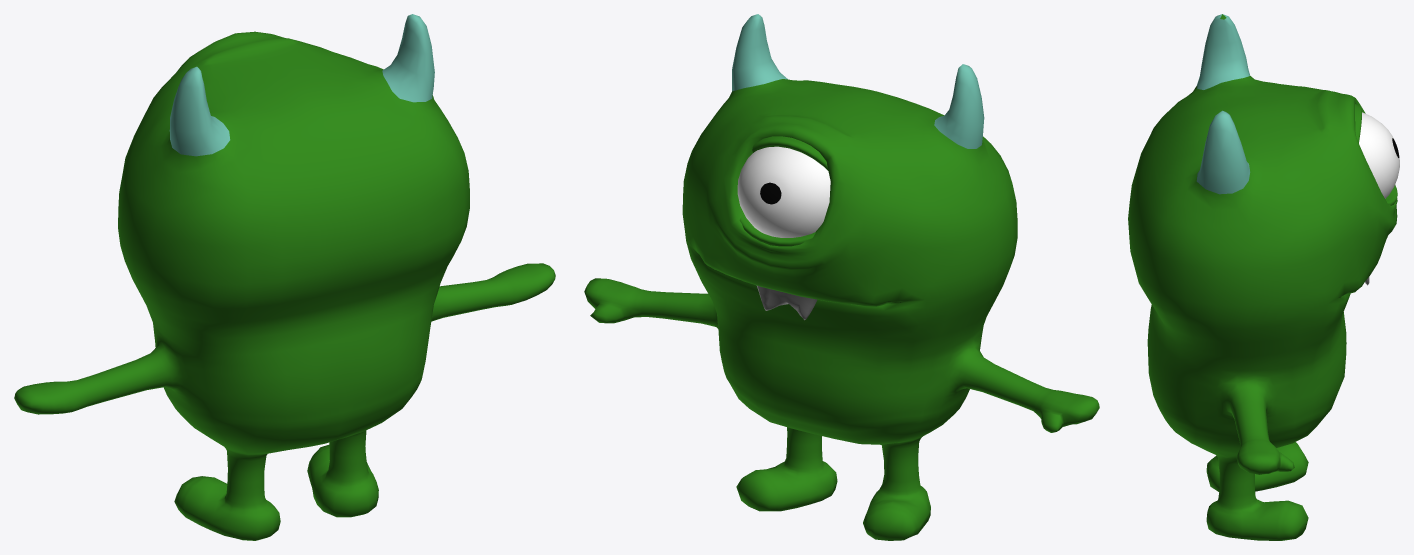
The model's file is mikeGuasouski.FBX.
3 views of the same model, side by side, from view 1: azimuth 30°, elevation 25°; view 2: azimuth 150°, elevation 25°; view 3: azimuth 270°, elevation 25° (orthographic). The views are drawn at different scales.
Visible parts, largest first — view 1: skin, horn; view 2: skin, eyeball, horn, tooth, eyelidT, eyelidB; view 3: skin, horn, eyeball.
Part boxes in pixels (left/top/right/bottom): skin: left=14, top=31, right=555, bottom=540; horn: left=169, top=14, right=434, bottom=156; skin: left=584, top=79, right=1099, bottom=540; eyeball: left=737, top=146, right=830, bottom=237; horn: left=732, top=14, right=984, bottom=148; tooth: left=756, top=285, right=817, bottom=320; eyelidT: left=752, top=136, right=828, bottom=170; eyelidB: left=739, top=215, right=815, bottom=246; skin: left=1128, top=14, right=1397, bottom=540; horn: left=1196, top=14, right=1250, bottom=194; eyeball: left=1359, top=112, right=1399, bottom=198.
Bounding box in the file's own units: 7.46 × 6.46 × 3.57.
